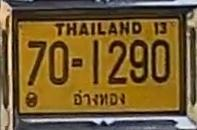0: (48, 40, 68, 84), (150, 39, 170, 82)
1: (92, 40, 98, 83)
2: (108, 39, 126, 83)
7: (27, 40, 46, 85)
9: (129, 39, 147, 82)
ATG: (73, 88, 126, 107)
